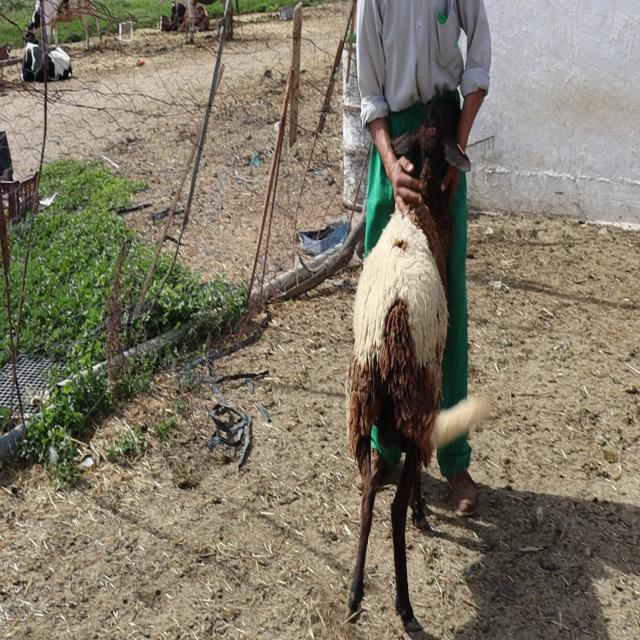Score_2: (347, 92, 489, 629)
